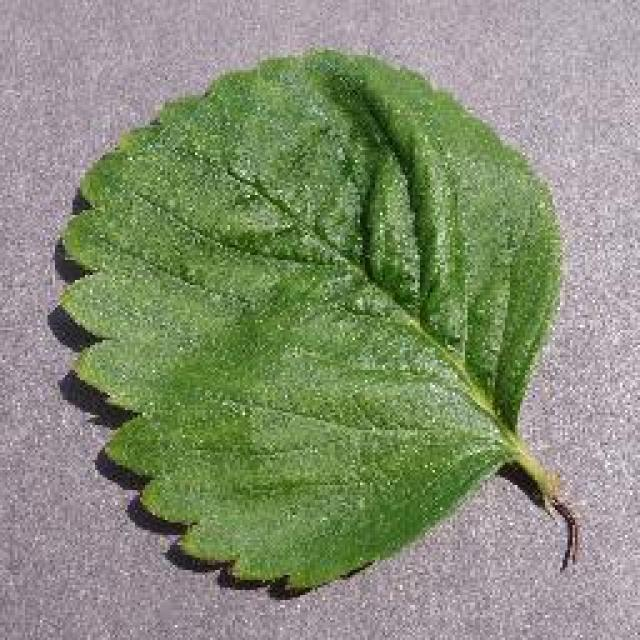Strawberry___healthy: (45, 28, 590, 618)
